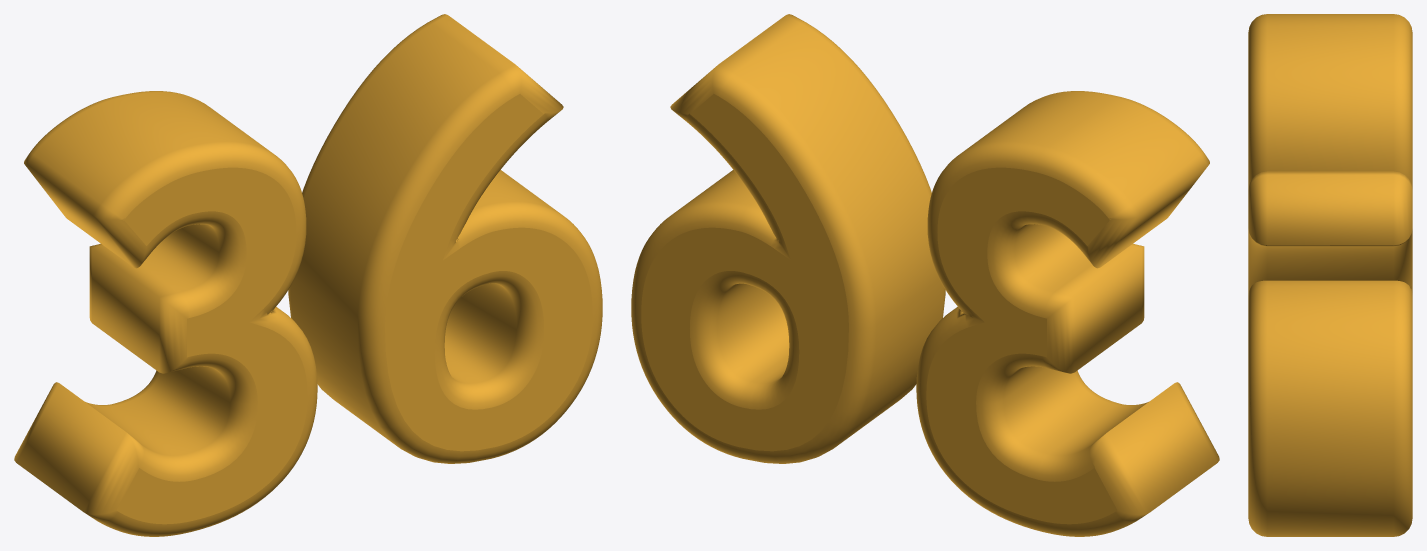
The picture shows the model from 3 angles, left to right: view 1: azimuth 30°, elevation 25°; view 2: azimuth 150°, elevation 25°; view 3: azimuth 270°, elevation 25°; orthographic projection. The views are drawn at different scales.
Visible parts, largest first — view 1: Text; view 2: Text; view 3: Text.
Boxes of the visible parts, x1=… form: Text: x1=14, y1=14, x2=602, y2=536; Text: x1=631, y1=14, x2=1219, y2=536; Text: x1=1248, y1=14, x2=1412, y2=536.
Bounding box in the file's own units: 88.77 × 63.4 × 26.
